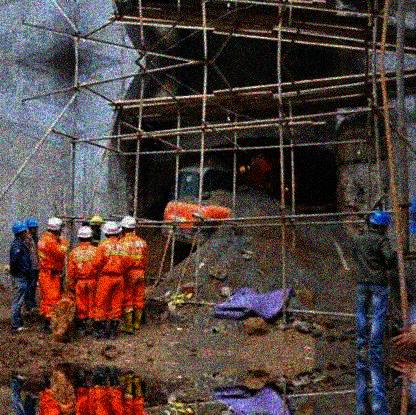helmet: (369, 210, 391, 237), (104, 222, 121, 241), (48, 217, 63, 238), (76, 227, 93, 245), (121, 217, 136, 235), (12, 223, 26, 240), (26, 219, 39, 236)
